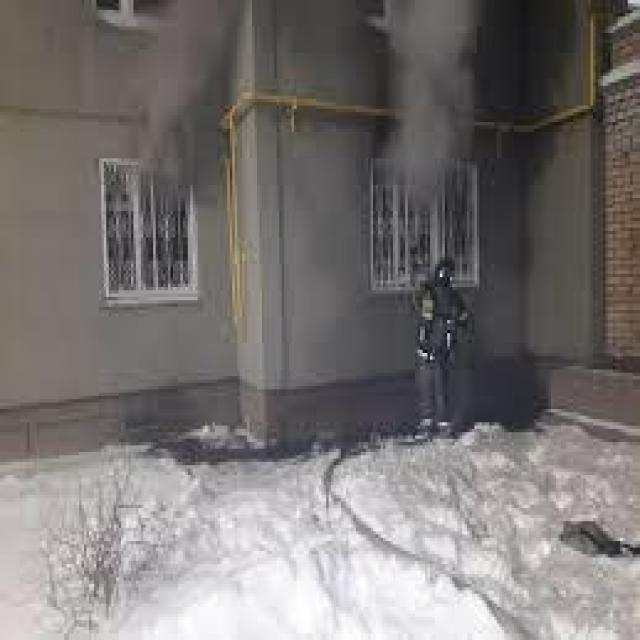Smoke: (112, 9, 250, 198), (367, 8, 492, 216)
